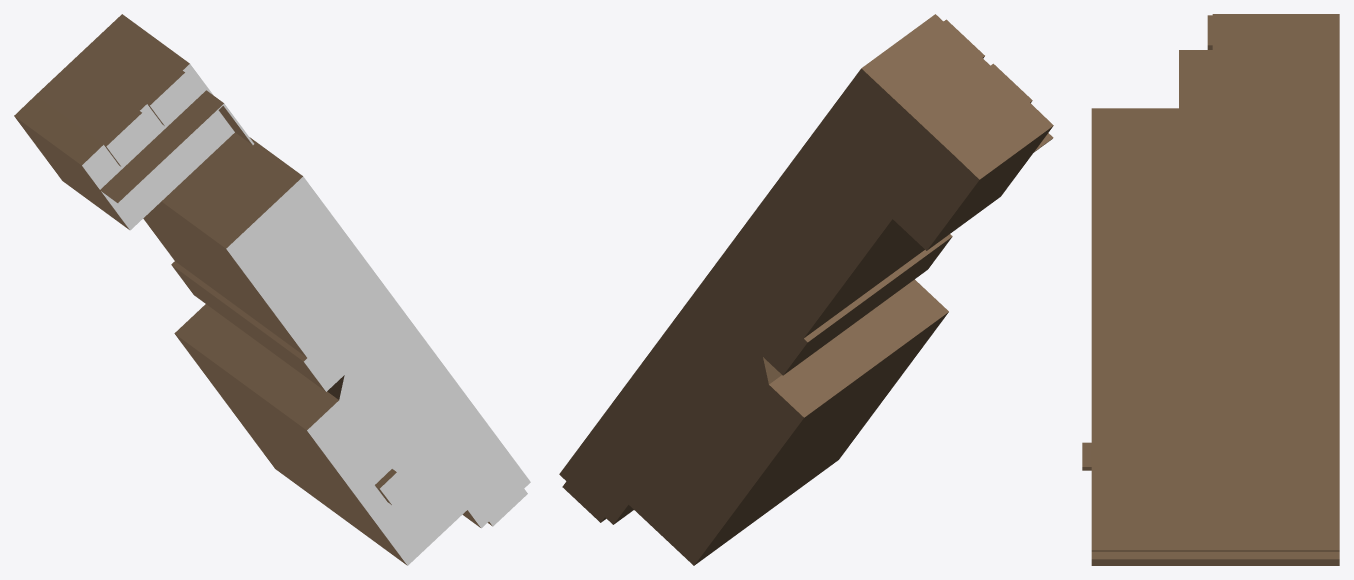
3 views of the same model, side by side, from view 1: azimuth 30°, elevation 25°; view 2: azimuth 150°, elevation 25°; view 3: azimuth 270°, elevation 25° (orthographic). The views are drawn at different scales.
Parts seen in each view (by area): view 1: City_PC-11818; view 2: City_PC-11818; view 3: City_PC-11818.
Boxes of the visible parts, x1,y1,x2,y2 form: City_PC-11818: [14, 14, 530, 565]; City_PC-11818: [559, 14, 1053, 565]; City_PC-11818: [1082, 14, 1339, 565].
Bounding box in the file's own units: 2291 × 2804 × 1419.
